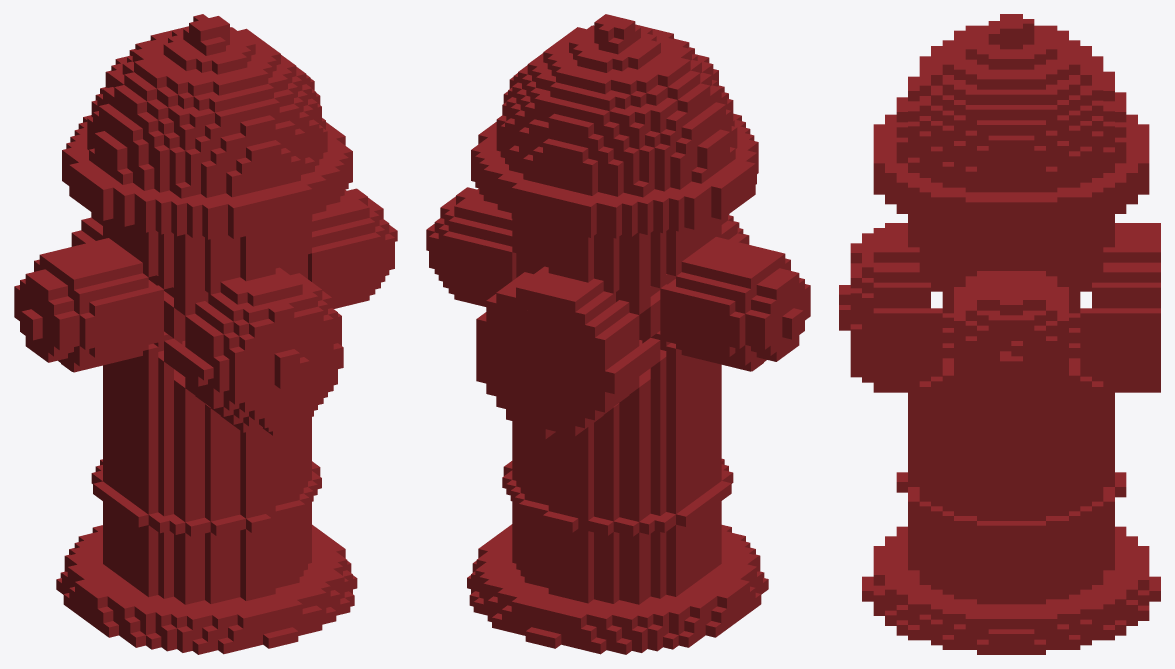
The model's file is Fire Hydrant.fbx.
3 renders of one model, left to right at view 1: azimuth 30°, elevation 25°; view 2: azimuth 150°, elevation 25°; view 3: azimuth 270°, elevation 25°, orthographic.
Visible parts, largest first — view 1: obj1; view 2: obj1; view 3: obj1.
Boxes of the visible parts, x1,y1,x2,y2 form: obj1: (14, 14, 397, 654); obj1: (426, 14, 810, 654); obj1: (839, 14, 1160, 654).
Bounding box in the file's own units: 3368 × 5007 × 2549.
1 material, 1 textured.
